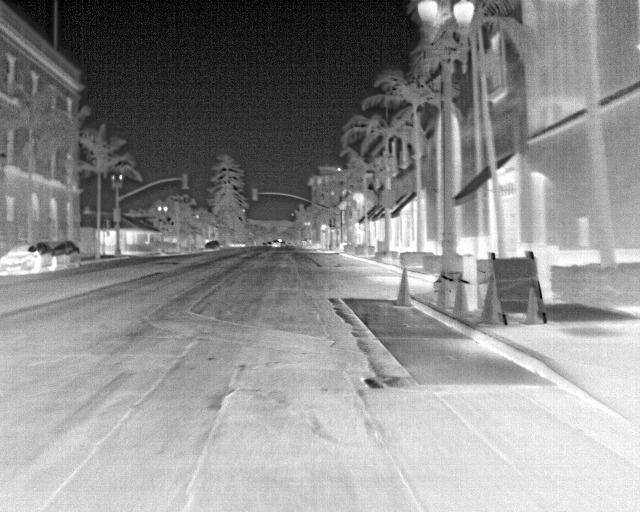bicycle: (0, 241, 57, 275), (54, 240, 81, 268), (202, 241, 218, 253)
